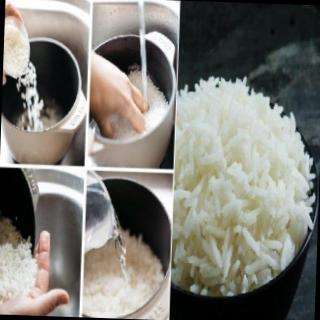Nasi: (170, 73, 320, 301)
